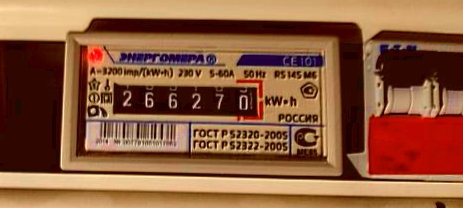0: (237, 92, 248, 112)
2: (120, 88, 134, 109), (190, 91, 202, 111)
6: (143, 90, 155, 110), (167, 91, 179, 110)
7: (213, 92, 225, 111)
screen: (100, 70, 274, 130)
